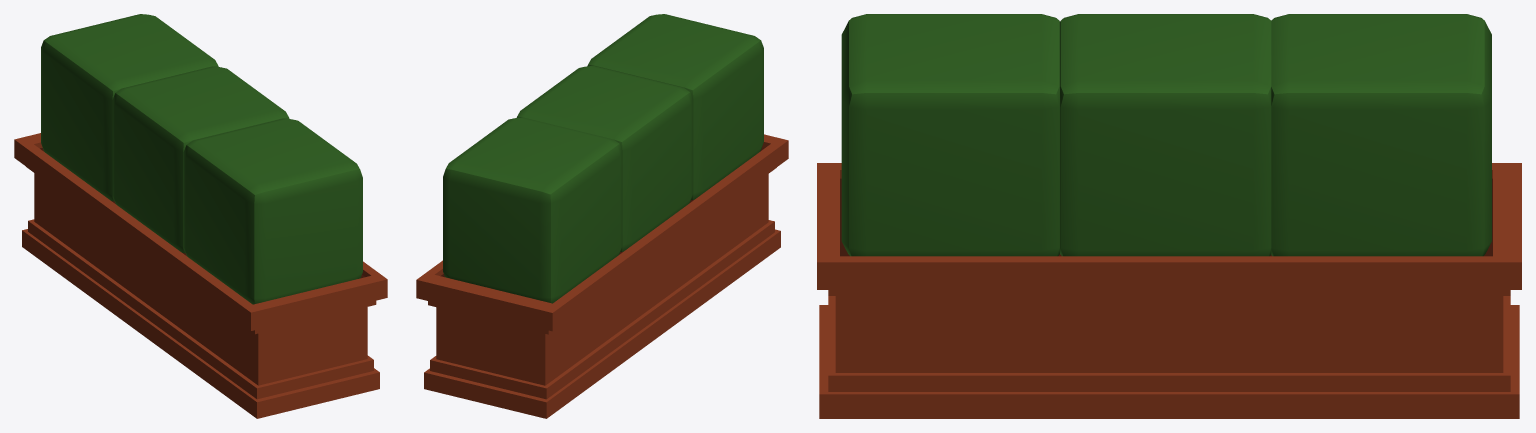
File: Hedge_x3.fbx
3 views of the same model, side by side, from view 1: azimuth 30°, elevation 25°; view 2: azimuth 150°, elevation 25°; view 3: azimuth 270°, elevation 25° (orthographic). The views are drawn at different scales.
Parts seen in each view (by area): view 1: pasted__pCube1; view 2: pasted__pCube1; view 3: pasted__pCube1.
Part boxes in pixels (x1,y1,x2,y2): pasted__pCube1: (14, 14, 387, 418); pasted__pCube1: (416, 14, 788, 418); pasted__pCube1: (817, 14, 1521, 418).
Size of the model in its own units: 1 by 1.53 by 3.
